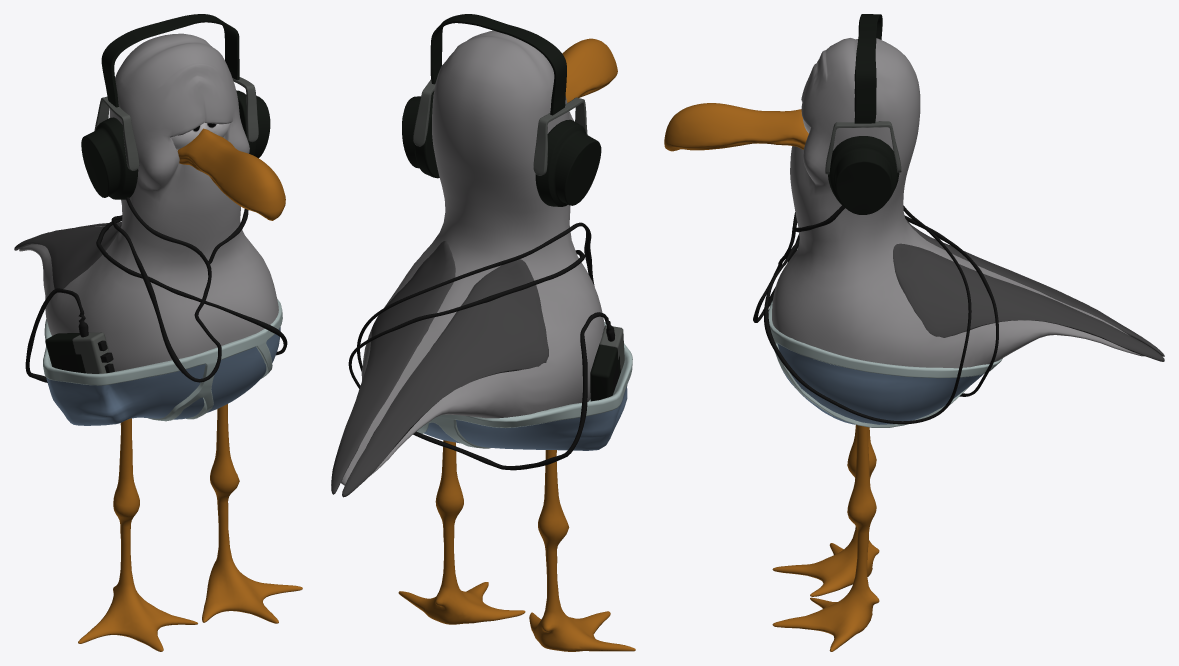
File: seagulf.gltf
3 views of the same model, side by side, from view 1: azimuth 30°, elevation 25°; view 2: azimuth 150°, elevation 25°; view 3: azimuth 270°, elevation 25° (orthographic). The views are drawn at different scales.
Visible parts, largest first — view 1: mesh_id26; view 2: mesh_id26; view 3: mesh_id26.
Boxes of the visible parts, bbox=[...] form: mesh_id26: bbox=[14, 14, 302, 651]; mesh_id26: bbox=[331, 14, 635, 651]; mesh_id26: bbox=[664, 14, 1164, 651].
Size of the model in its own units: 429 by 1024 by 815.
Materials: 1 (1 with a texture image).
